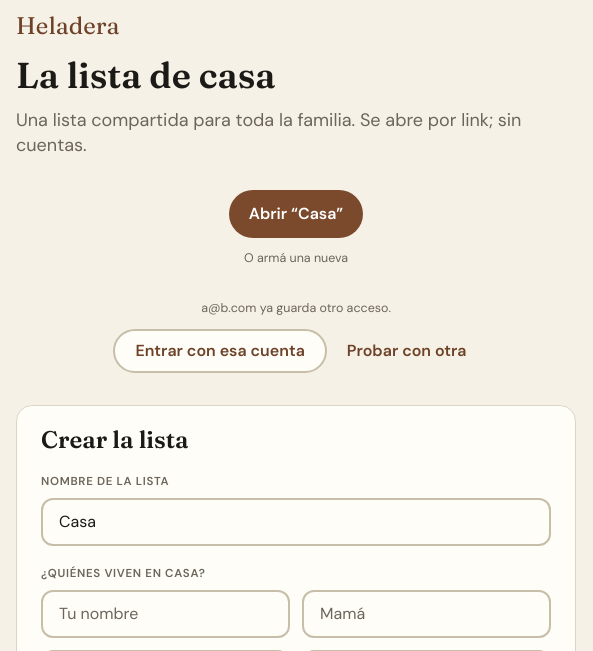
Test: Home · la cuenta › choque: "probar con otra" vuelve al viaje de guardar, sin pregunta (no cambia la identidad)
Click the button "Probar con otra". click: x=407, y=351
box: [335,329,478,373]
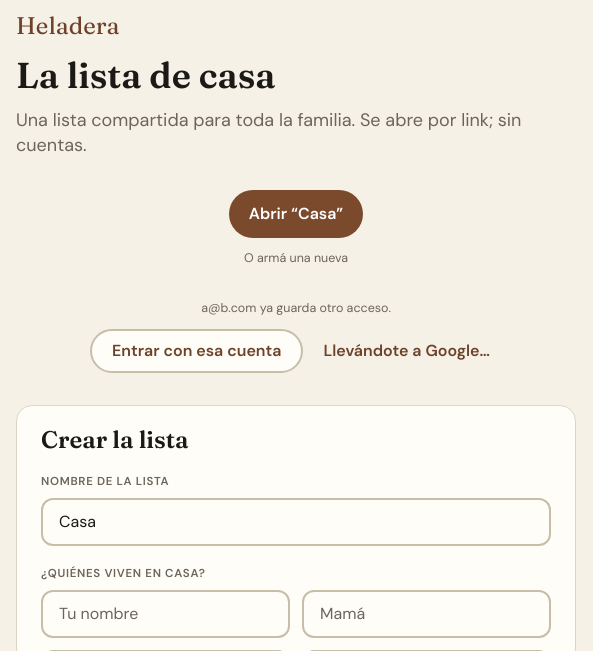
expect the button "Llevándote a Google…" is disabled: met, box [312,329,502,373]
